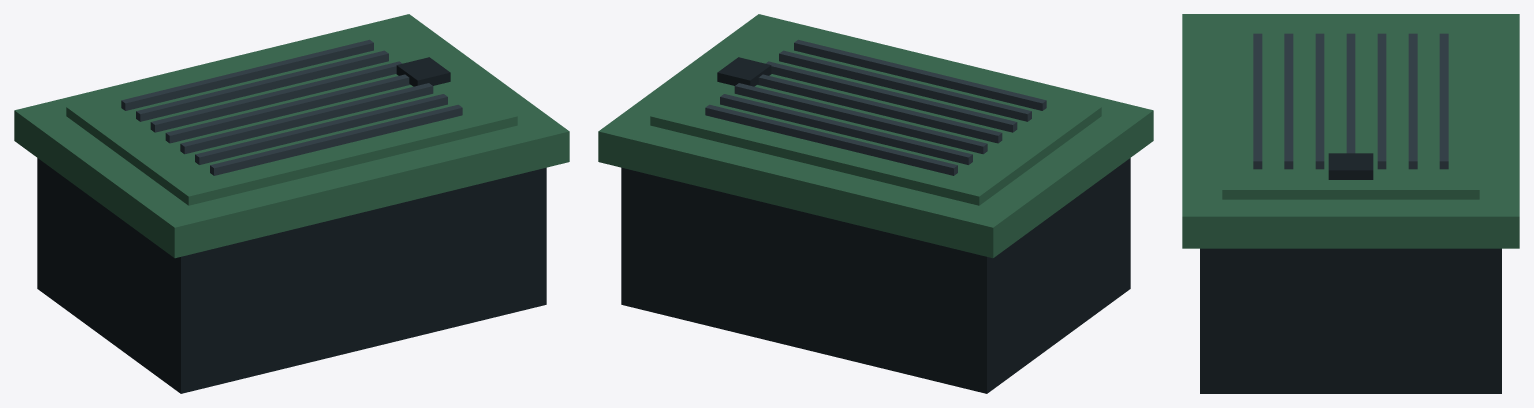
File: b05_irrigation_valve_access_box.glb
The picture shows the model from 3 angles, left to right: view 1: azimuth 30°, elevation 25°; view 2: azimuth 150°, elevation 25°; view 3: azimuth 270°, elevation 25°; orthographic projection. The views are drawn at different scales.
Parts seen in each view (by area): view 1: b05_irrigation_valve_access_box; view 2: b05_irrigation_valve_access_box; view 3: b05_irrigation_valve_access_box.
Part boxes in pixels (bbox=[...]): b05_irrigation_valve_access_box: bbox=[14, 14, 569, 393]; b05_irrigation_valve_access_box: bbox=[598, 14, 1153, 393]; b05_irrigation_valve_access_box: bbox=[1182, 14, 1519, 393].
Size of the model in its own units: 0.54 by 0.256 by 0.38.
